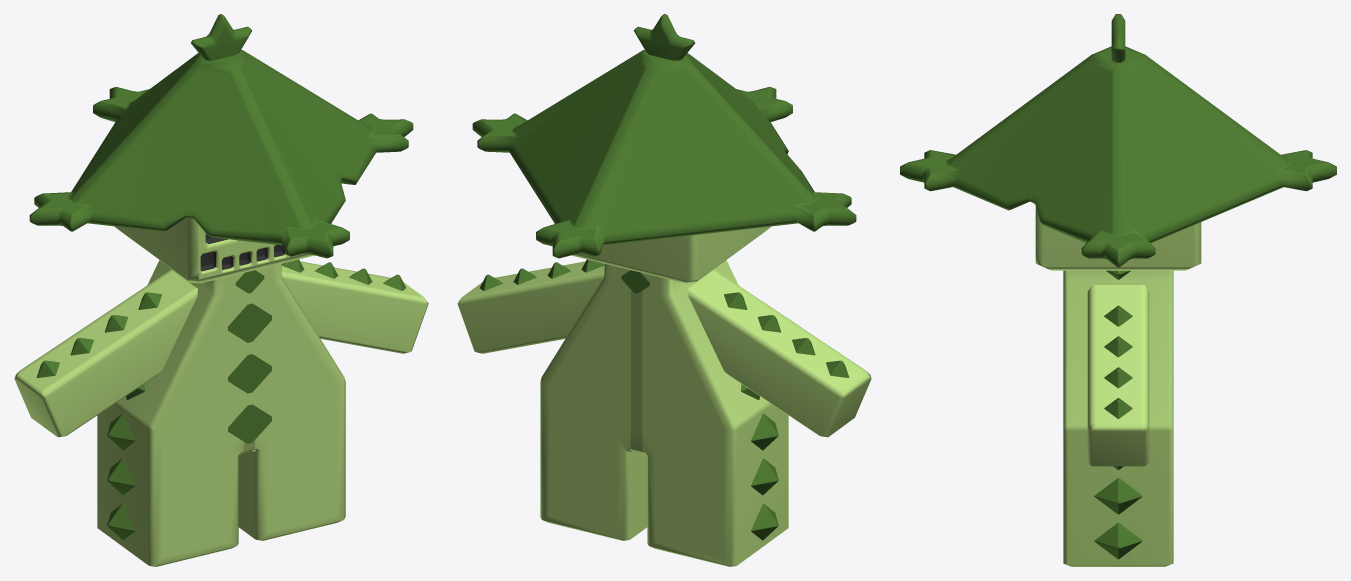
3 views of the same model, side by side, from view 1: azimuth 30°, elevation 25°; view 2: azimuth 150°, elevation 25°; view 3: azimuth 270°, elevation 25° (orthographic).
Visible parts, largest first — view 1: 0332_cacturne; view 2: 0332_cacturne; view 3: 0332_cacturne.
Part boxes in pixels (x1,y1,x2,y2): 0332_cacturne: (14,14,428,566); 0332_cacturne: (457,14,871,566); 0332_cacturne: (900,14,1336,566).
Size of the model in its own units: 2.4 by 3.03 by 2.37.
1 material, 1 textured.
